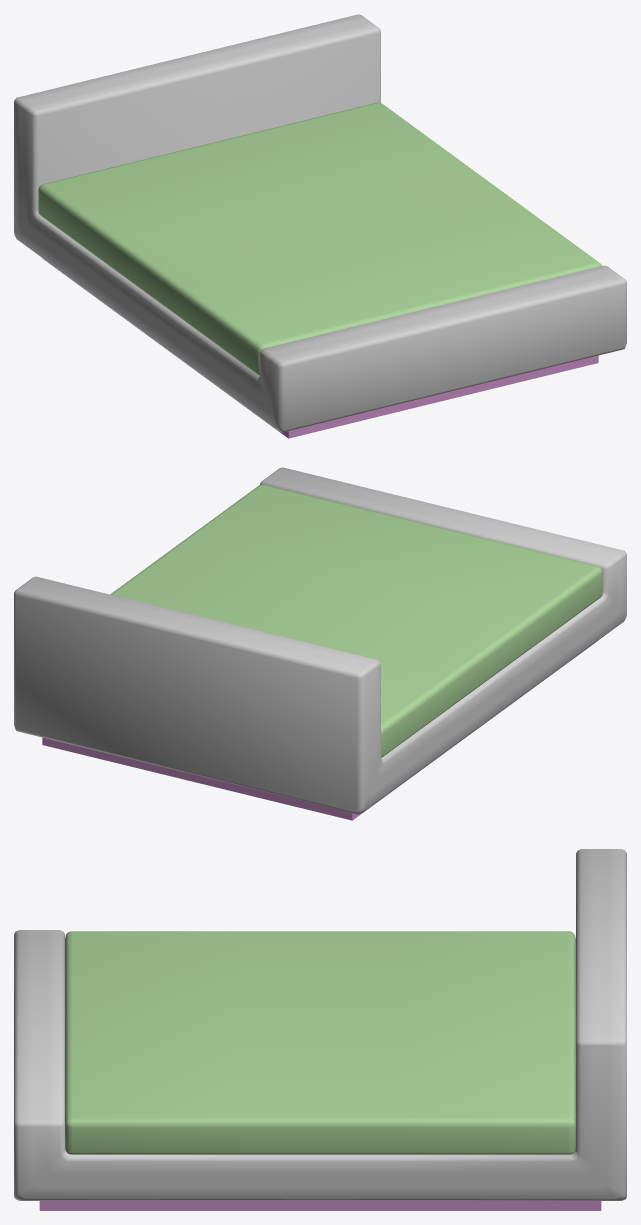
The model's file is MZCBD02C.FBX.
The picture shows the model from 3 angles, top to bottom: view 1: azimuth 30°, elevation 25°; view 2: azimuth 150°, elevation 25°; view 3: azimuth 270°, elevation 25°; orthographic projection. The views are drawn at different scales.
Parts seen in each view (by area): view 1: MZCBD02C; view 2: MZCBD02C; view 3: MZCBD02C.
Part boxes in pixels (x1,y1,x2,y2): MZCBD02C: (14, 14, 626, 438); MZCBD02C: (14, 467, 626, 820); MZCBD02C: (14, 849, 626, 1210).
Size of the model in its own units: 180 by 240 by 78.
